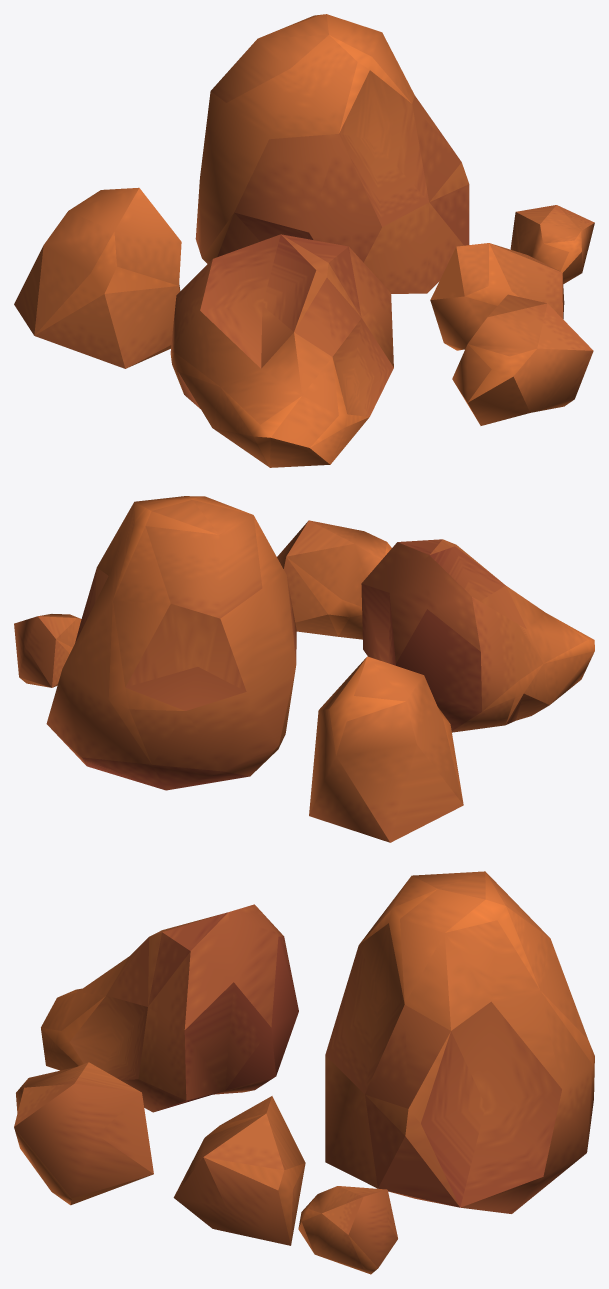
File: Copper_Nuggets.gltf
The picture shows the model from 3 angles, top to bottom: view 1: azimuth 30°, elevation 25°; view 2: azimuth 150°, elevation 25°; view 3: azimuth 270°, elevation 25°; orthographic projection. The views are drawn at different scales.
Parts seen in each view (by area): view 1: Copper_Nuggets; view 2: Copper_Nuggets; view 3: Copper_Nuggets.
Part boxes in pixels (left/top/right/bottom): Copper_Nuggets: left=14, top=14, right=594, bottom=467; Copper_Nuggets: left=14, top=496, right=594, bottom=842; Copper_Nuggets: left=14, top=871, right=594, bottom=1274.
Bounding box in the file's own units: 0.9288 × 0.4749 × 0.8501.
Materials: 1 (1 with a texture image).
